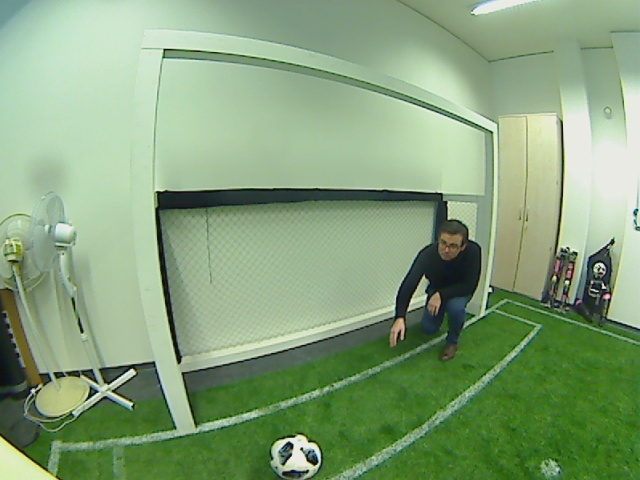ball: (267, 433, 322, 479)
